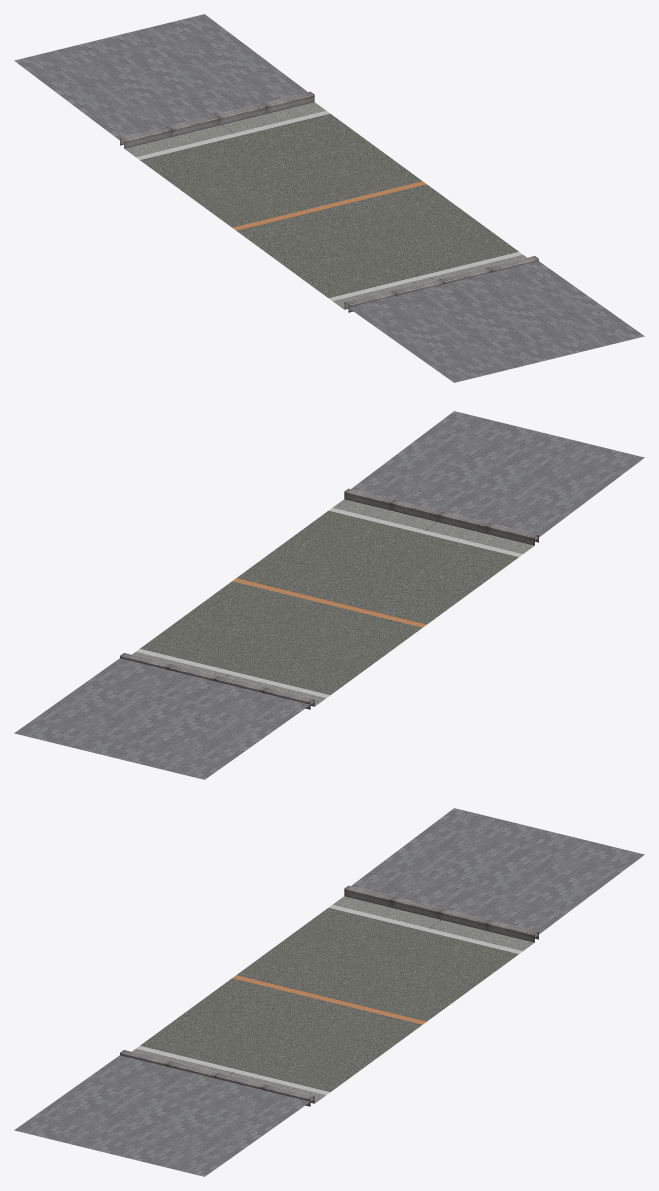
File: Street_4m.fbx
The picture shows the model from 3 angles, top to bottom: view 1: azimuth 30°, elevation 25°; view 2: azimuth 150°, elevation 25°; view 3: azimuth 330°, elevation 25°; orthographic projection.
Visible parts, largest first — view 1: 001_roadway_8x4m, 500_sidewalk_w4m_4m, 500_sidewalk_w4m_4m.001, 100_curb_4m, 100_curb_4m.001; view 2: 001_roadway_8x4m, 500_sidewalk_w4m_4m.001, 500_sidewalk_w4m_4m, 100_curb_4m.001, 100_curb_4m; view 3: 001_roadway_8x4m, 500_sidewalk_w4m_4m, 500_sidewalk_w4m_4m.001, 100_curb_4m, 100_curb_4m.001.
Part boxes in pixels (box(x1,y1,x2,y2)): 001_roadway_8x4m: box(124, 102, 526, 309); 500_sidewalk_w4m_4m: box(14, 14, 307, 143); 500_sidewalk_w4m_4m.001: box(344, 261, 644, 382); 100_curb_4m: box(120, 91, 314, 148); 100_curb_4m.001: box(344, 256, 538, 312); 001_roadway_8x4m: box(132, 499, 534, 706); 500_sidewalk_w4m_4m.001: box(351, 411, 644, 540); 500_sidewalk_w4m_4m: box(14, 658, 314, 779); 100_curb_4m.001: box(344, 488, 538, 545); 100_curb_4m: box(120, 653, 314, 709); 001_roadway_8x4m: box(132, 896, 534, 1103); 500_sidewalk_w4m_4m: box(351, 808, 644, 937); 500_sidewalk_w4m_4m.001: box(14, 1055, 314, 1176); 100_curb_4m: box(344, 885, 538, 942); 100_curb_4m.001: box(120, 1050, 314, 1106).
Size of the model in its own units: 4 by 0.15 by 16.
